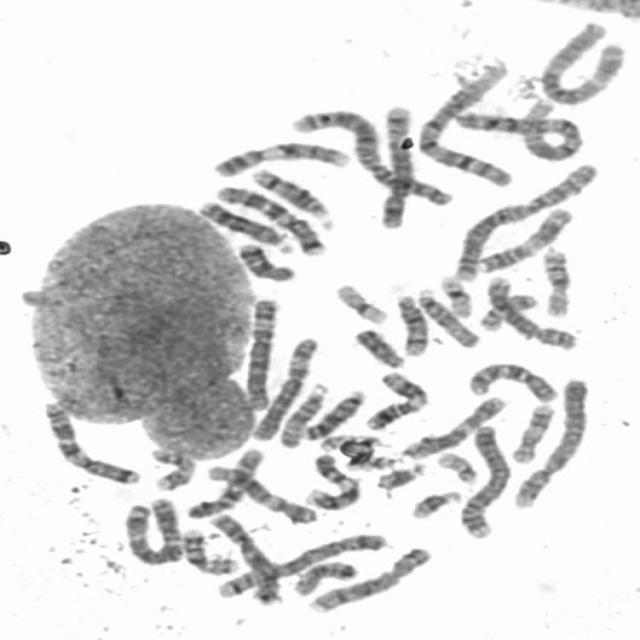A1: (411, 56, 518, 189), (449, 102, 585, 164)
A2: (445, 157, 603, 282), (283, 104, 457, 208)
A3: (535, 15, 629, 106), (118, 494, 186, 566)
B4: (508, 372, 592, 510), (454, 422, 513, 540)
B5: (209, 527, 392, 601), (374, 100, 418, 230)
C10: (182, 442, 268, 520), (464, 356, 562, 404)
C11: (470, 203, 577, 275), (359, 366, 432, 432)
C12: (399, 390, 512, 460), (201, 460, 322, 525)
C6: (248, 331, 323, 443), (238, 294, 282, 411)
C7: (36, 396, 144, 486), (208, 180, 328, 257)
C8: (305, 542, 437, 615), (482, 271, 580, 352)
C9: (208, 136, 357, 179), (300, 449, 364, 512)
D13: (195, 196, 301, 253), (295, 385, 368, 442)
D14: (248, 164, 339, 230), (389, 289, 432, 358)
D15: (410, 283, 484, 350), (276, 378, 334, 450)
E16: (175, 524, 241, 576), (536, 242, 575, 318)
E17: (507, 398, 556, 464), (146, 443, 198, 493)
E18: (286, 556, 361, 598), (234, 238, 300, 283)
F19: (329, 278, 391, 326), (433, 270, 476, 319)
F20: (473, 290, 541, 334), (319, 434, 374, 452)
G21: (404, 486, 463, 520), (376, 463, 427, 491)
G22: (432, 447, 481, 485), (350, 456, 400, 474)
X: (206, 509, 286, 607)
Y: (348, 323, 409, 370)
